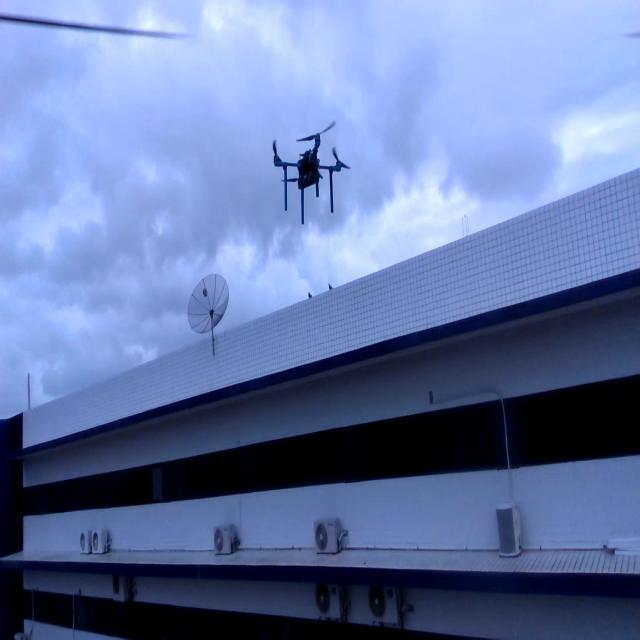-uav-: (268, 120, 352, 231)
